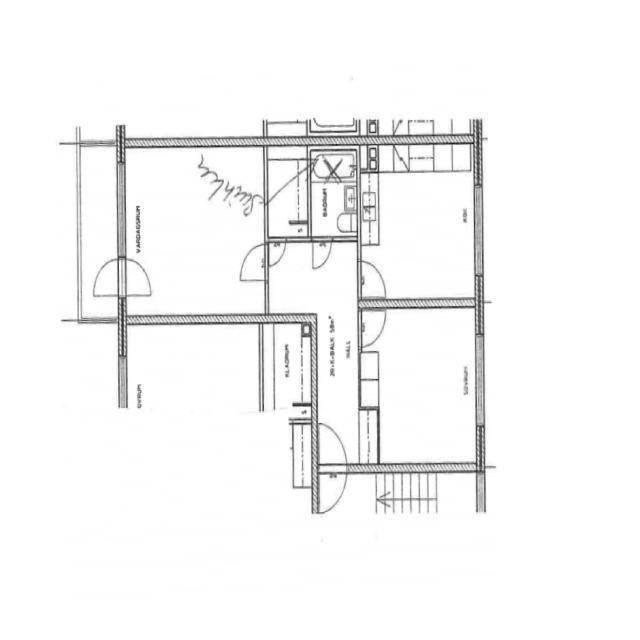door: (90, 256, 156, 298), (315, 420, 349, 480), (235, 236, 269, 287), (358, 255, 390, 302), (357, 306, 390, 351), (308, 234, 336, 274), (268, 234, 290, 270)
window: (112, 148, 130, 256), (472, 328, 489, 435), (115, 351, 131, 411)
zone: (120, 141, 268, 327), (356, 139, 480, 309), (360, 303, 482, 471), (259, 312, 317, 416), (309, 145, 360, 241), (265, 144, 310, 242)
